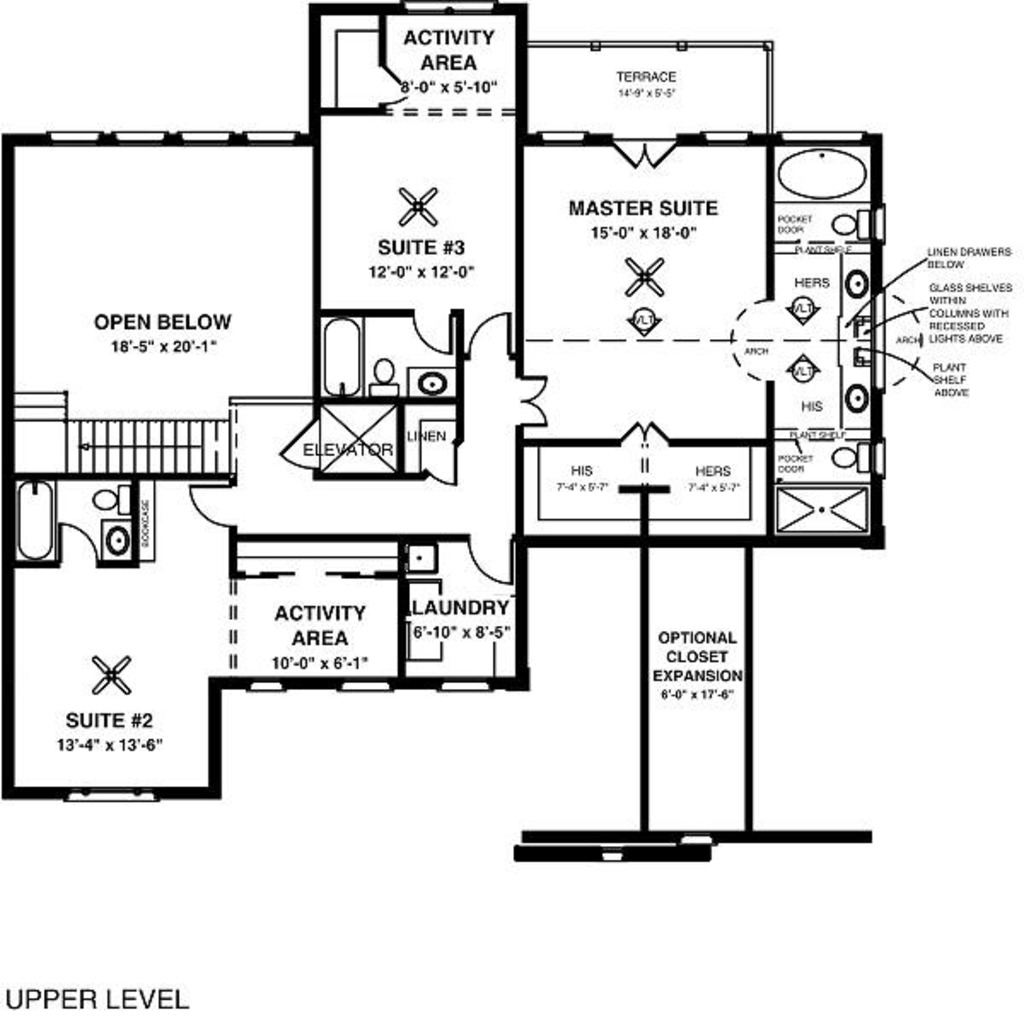door: (179, 480, 236, 534), (467, 531, 513, 587), (52, 519, 104, 567), (614, 131, 676, 168), (464, 311, 511, 357), (411, 310, 452, 359), (518, 374, 550, 434), (424, 445, 464, 491), (620, 417, 668, 448)
large_sink: (828, 438, 874, 476)
small_sink: (835, 248, 879, 436)
stairs: (5, 383, 233, 471)
tub: (772, 146, 871, 206), (323, 318, 367, 404), (13, 476, 58, 560)
windows: (35, 124, 300, 156)
